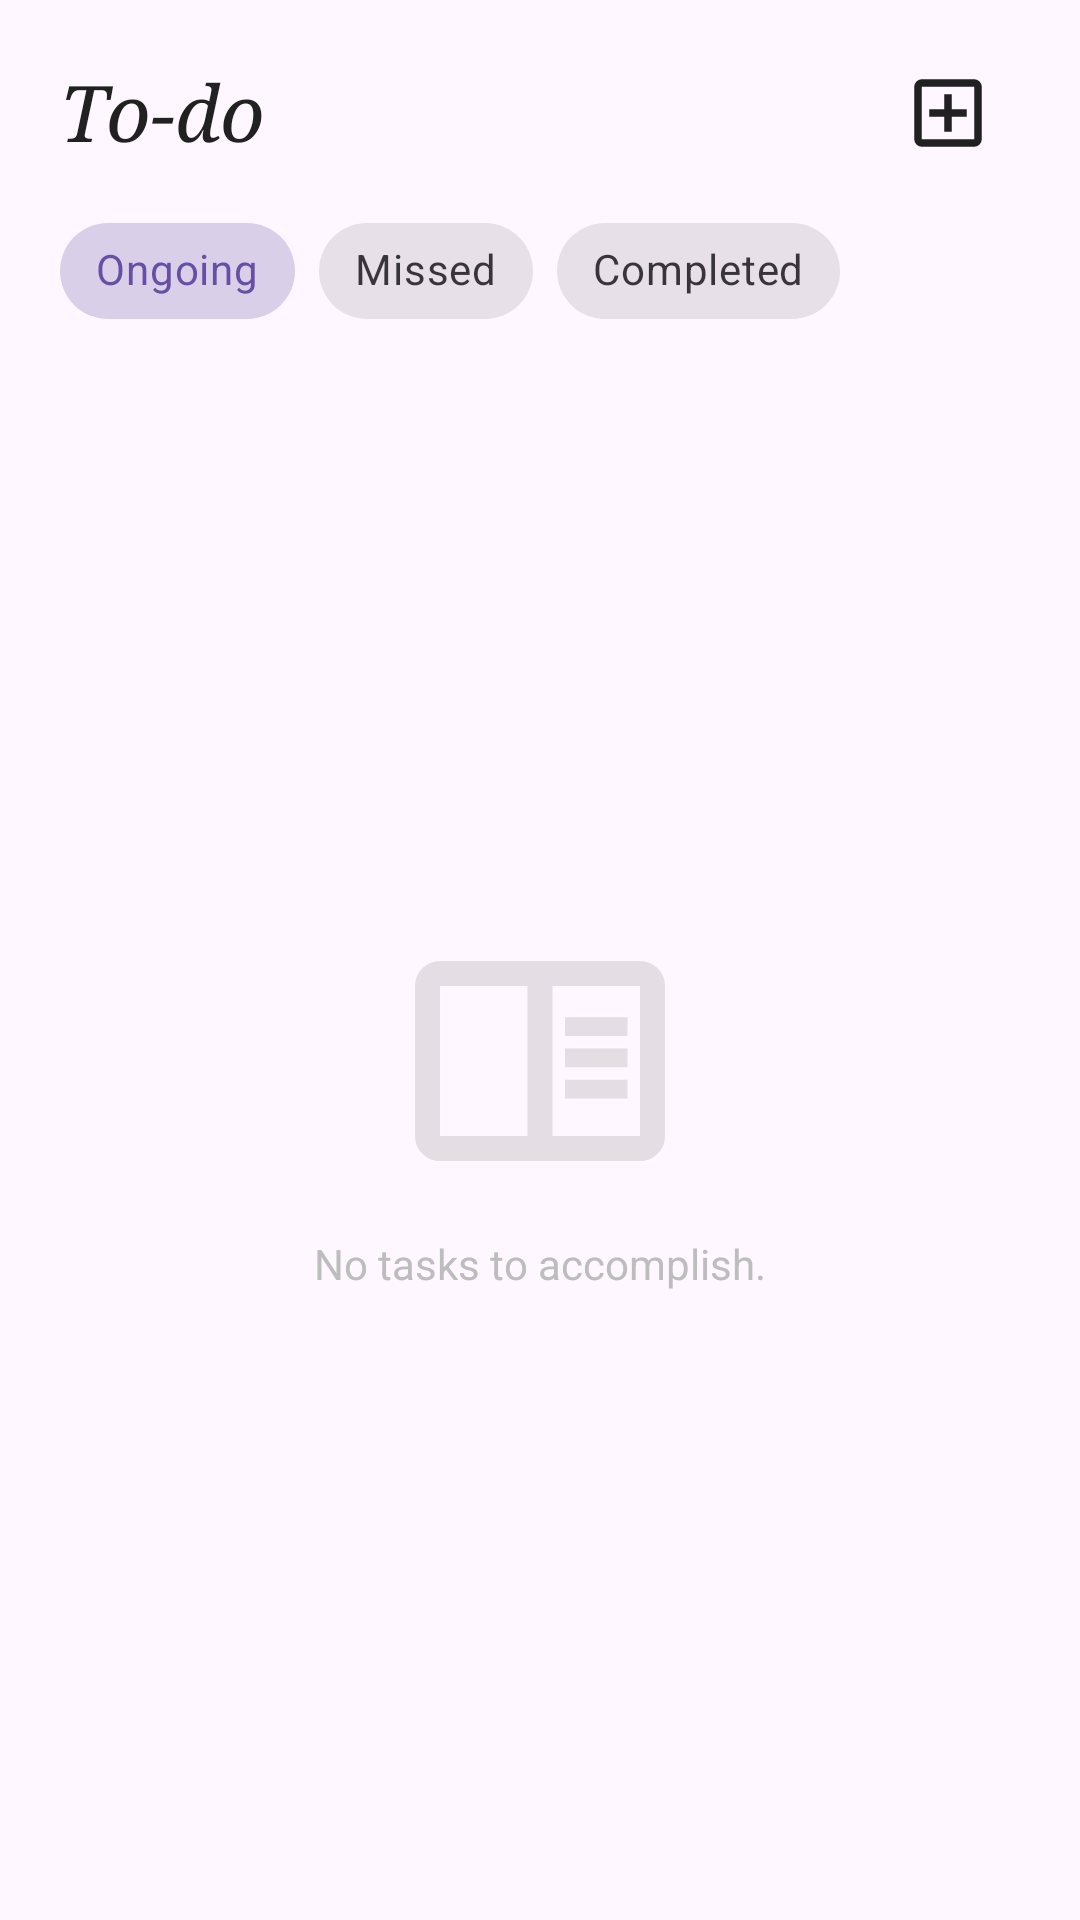

Screen size 1080 × 1920. Icon name, then its center in pixels as (x=x, y=y):
add todo: (x=948, y=113)
